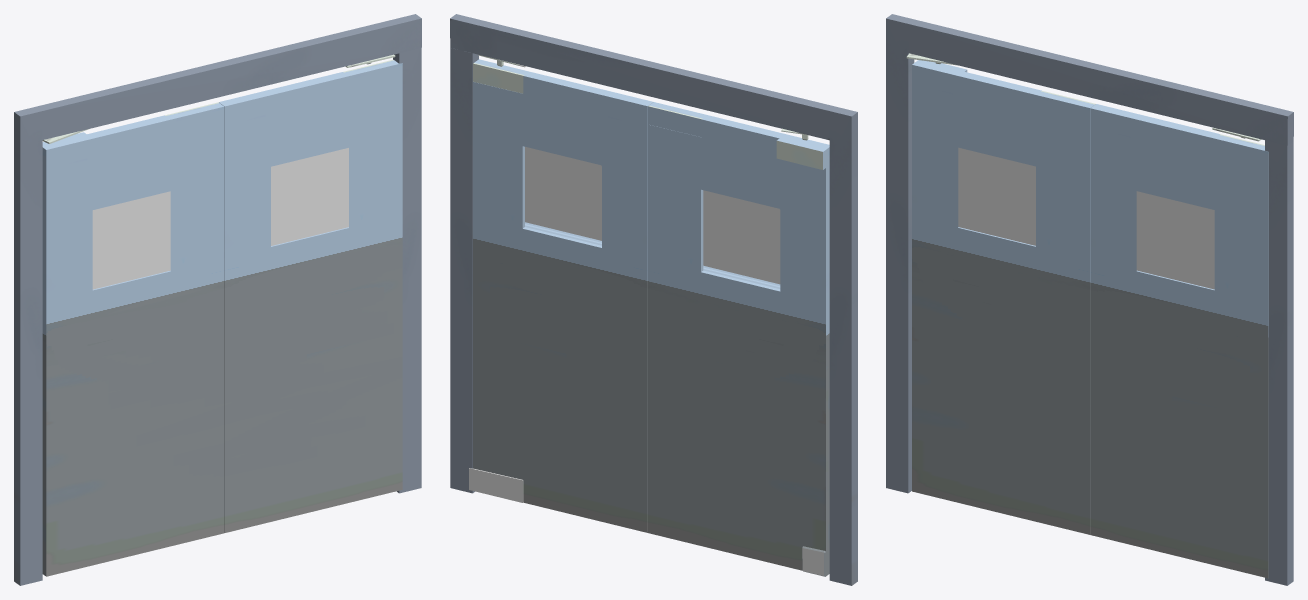
Rendered from cithendoor.fbx.
The picture shows the model from 3 angles, left to right: view 1: azimuth 30°, elevation 25°; view 2: azimuth 150°, elevation 25°; view 3: azimuth 330°, elevation 25°; orthographic projection.
Parts seen in each view (by area): view 1: door3; view 2: door3; view 3: door3.
Part boxes in pixels (bbox=[...]): door3: bbox=[14, 14, 421, 585]; door3: bbox=[450, 14, 857, 585]; door3: bbox=[886, 14, 1293, 585].
Bounding box in the file's own units: 18.02 × 20.12 × 1.02.
